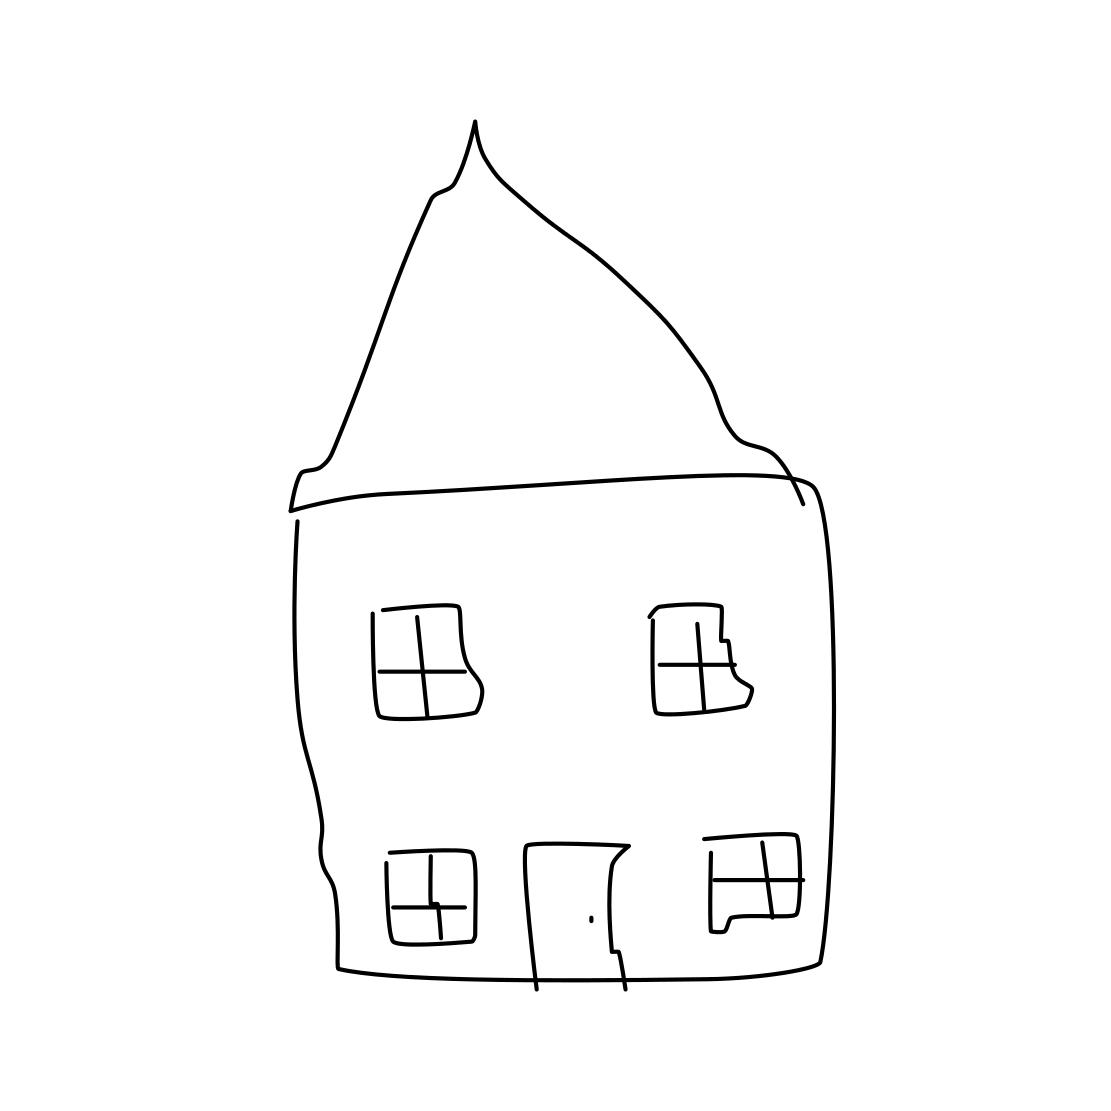House: (196, 82, 907, 1009)
